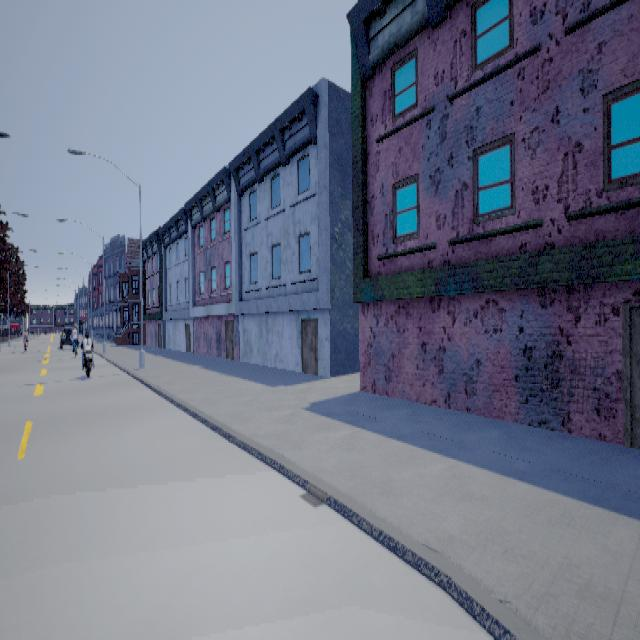motobike: (78, 332, 95, 376)
vehicle: (57, 322, 79, 350)
